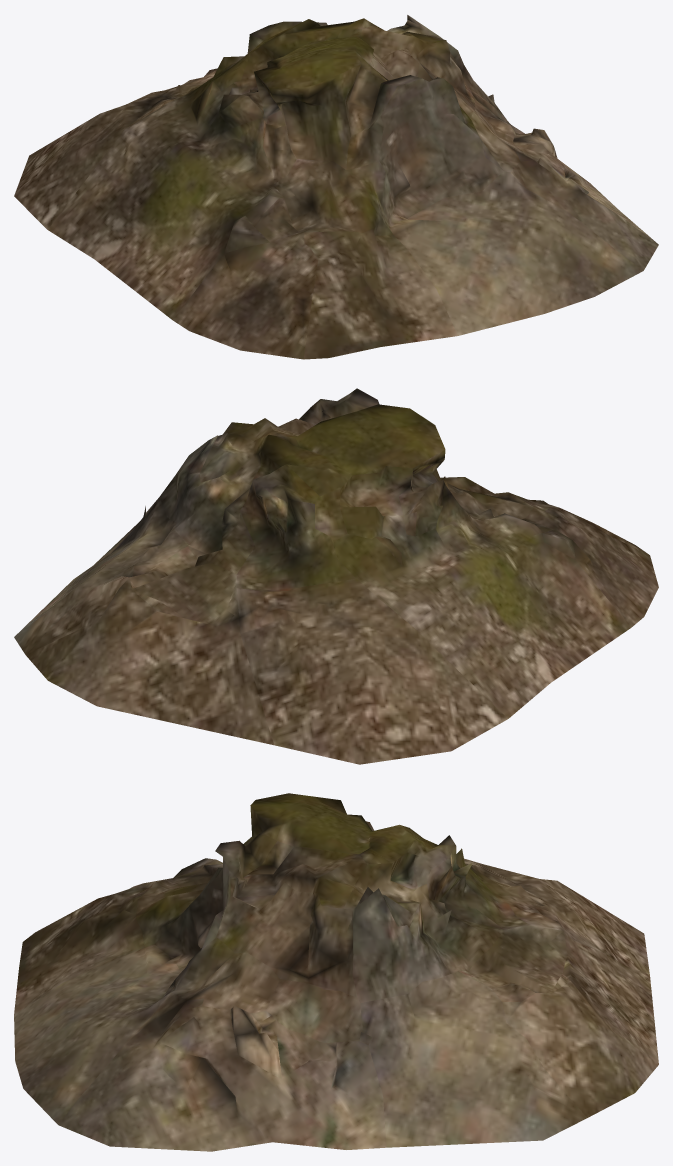
File: stump.glb
3 views of the same model, one above another, from view 1: azimuth 30°, elevation 25°; view 2: azimuth 150°, elevation 25°; view 3: azimuth 270°, elevation 25° (orthographic). The views are drawn at different scales.
Parts seen in each view (by area): view 1: tree_stump_01; view 2: tree_stump_01; view 3: tree_stump_01.
Boxes of the visible parts, x1,y1,x2,y2 form: tree_stump_01: [14, 15, 658, 359]; tree_stump_01: [14, 388, 658, 764]; tree_stump_01: [14, 793, 658, 1151].
Size of the model in its own units: 1.43 by 0.5646 by 1.59.
Materials: 1 (1 with a texture image).
